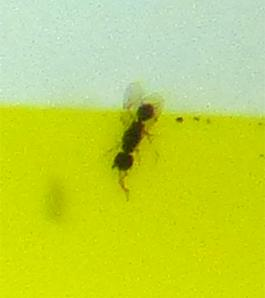Hymenoptera: (100, 100, 165, 198)
